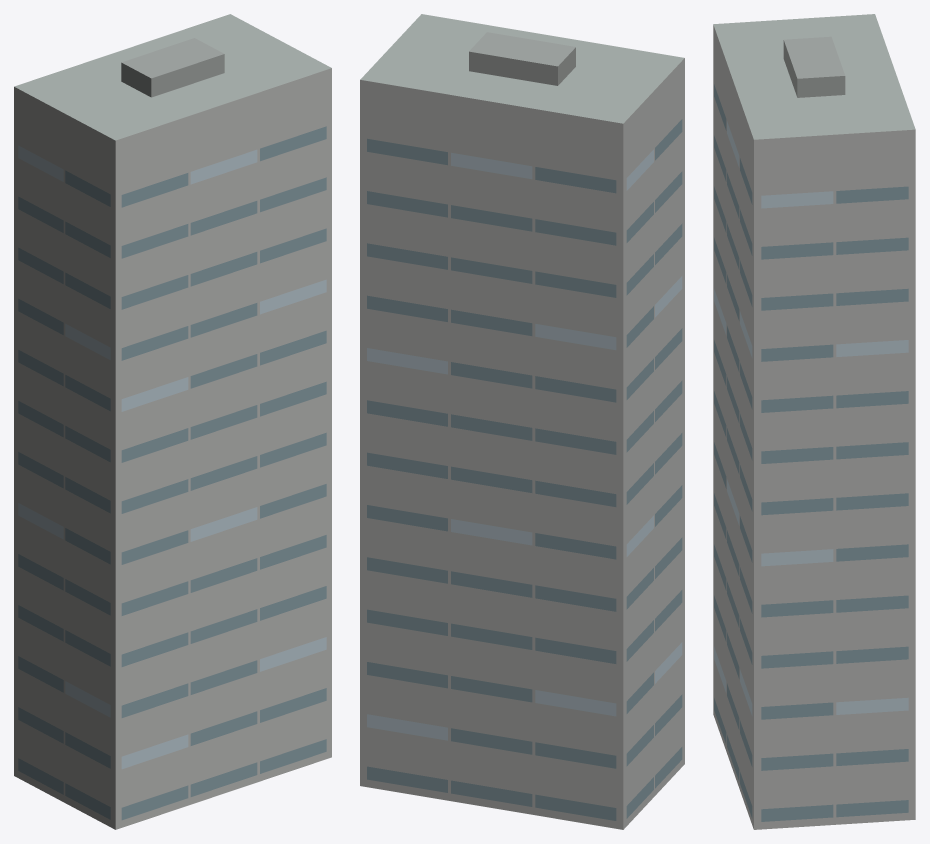
The model's file is apt-a13510002.glb.
The picture shows the model from 3 angles, left to right: view 1: azimuth 30°, elevation 25°; view 2: azimuth 150°, elevation 25°; view 3: azimuth 270°, elevation 25°; orthographic projection. The views are drawn at different scales.
Parts seen in each view (by area): view 1: apt-a13510002; view 2: apt-a13510002; view 3: apt-a13510002.
Boxes of the visible parts, x1,y1,x2,y2 form: apt-a13510002: (14, 14, 331, 829); apt-a13510002: (360, 14, 684, 829); apt-a13510002: (713, 14, 915, 829).
Size of the model in its own units: 33.85 by 89 by 23.02.
